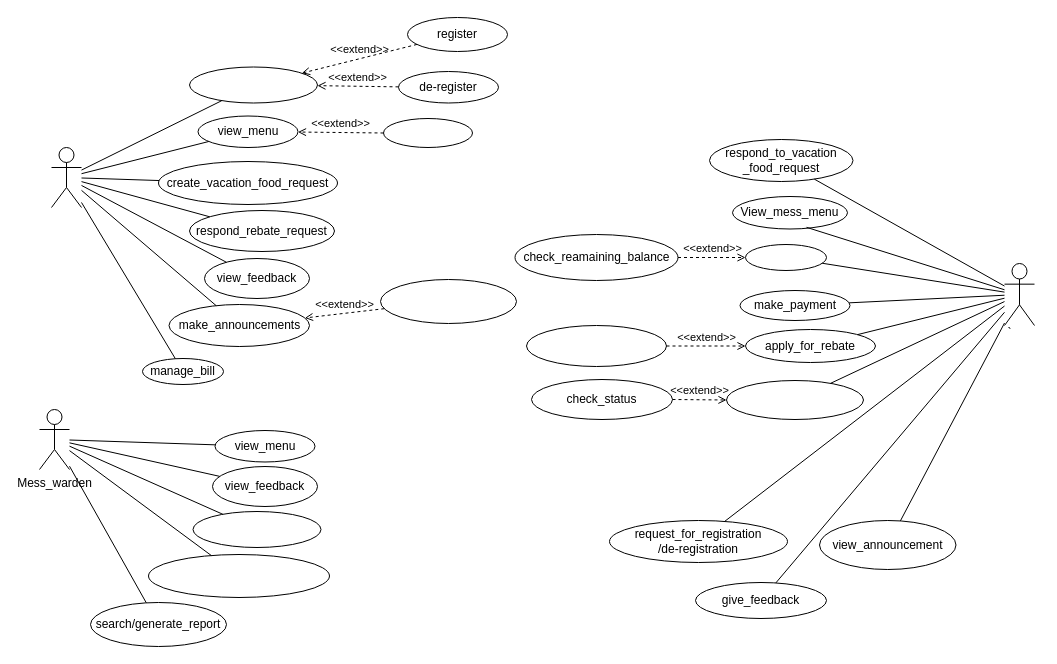
This 1057x664 diagram has some shape labels left out. The shapes that lost their labels are listed below. From the top down, each one's centre as x and y in pixels, then its label:
At point (253, 84): "manage_registration".
At point (427, 133): "update_menu".
At point (66, 177): "Mess_caretaker".
At point (785, 257): "view_bill".
At point (448, 301): "attach_documents".
At point (1019, 294): "Student".
At point (596, 345): "check_rebate_status".
At point (795, 400): "request_special_food".
At point (256, 529): "view_registrations".
At point (239, 576): "make/view_announcements".
